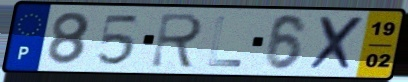5: (95, 13, 143, 66)
6: (261, 13, 312, 73)
8: (45, 10, 92, 66)
L: (206, 14, 245, 69)
R: (148, 11, 207, 70)
X: (307, 15, 368, 74)
